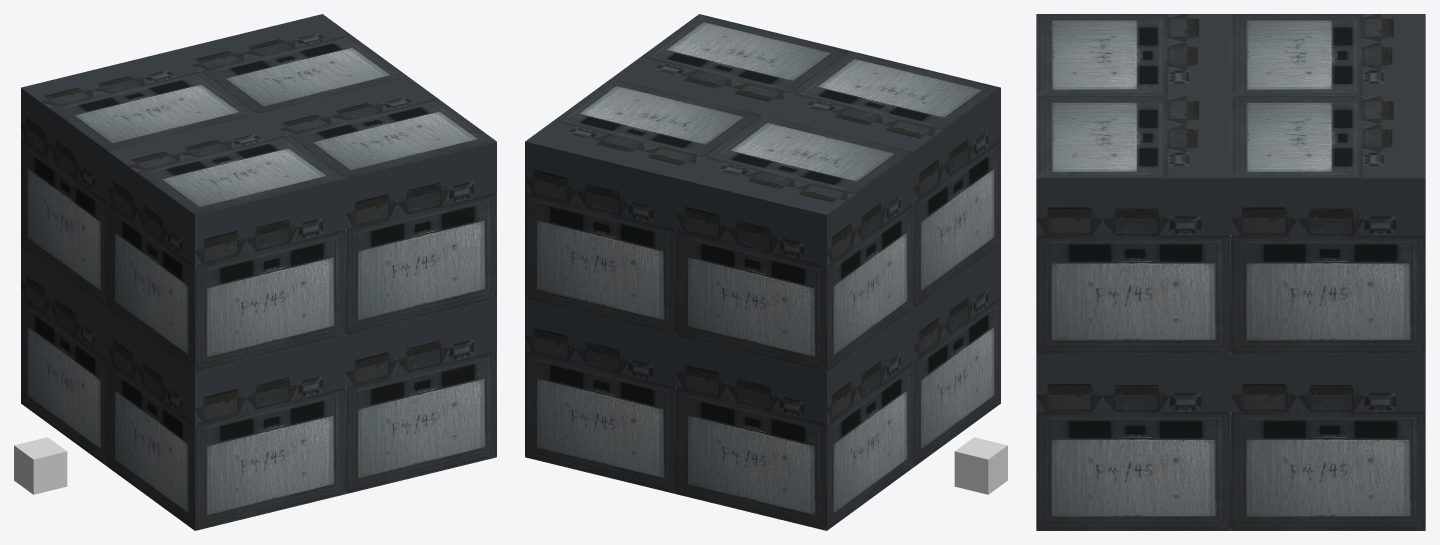
The model's file is testbox2.DAE.
The picture shows the model from 3 angles, left to right: view 1: azimuth 30°, elevation 25°; view 2: azimuth 150°, elevation 25°; view 3: azimuth 270°, elevation 25°; orthographic projection. The views are drawn at different scales.
Visible parts, largest first — view 1: testbox2, testbox1; view 2: testbox2, testbox1; view 3: testbox2.
Boxes of the visible parts, bbox=[...] form: testbox2: bbox=[21, 14, 496, 530]; testbox1: bbox=[14, 437, 67, 494]; testbox2: bbox=[525, 14, 1000, 530]; testbox1: bbox=[954, 437, 1007, 494]; testbox2: bbox=[1036, 14, 1425, 530].
Bounding box in the file's own units: 138 × 108 × 108.
